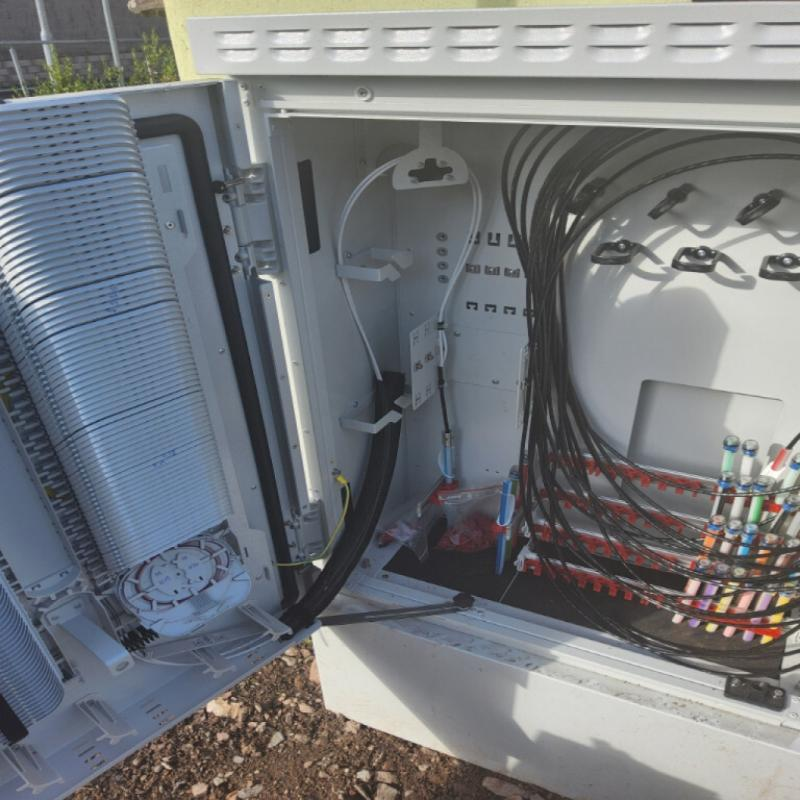NT-Gehause: (6, 8, 800, 800)
Spleiskassetten: (0, 91, 265, 662)
